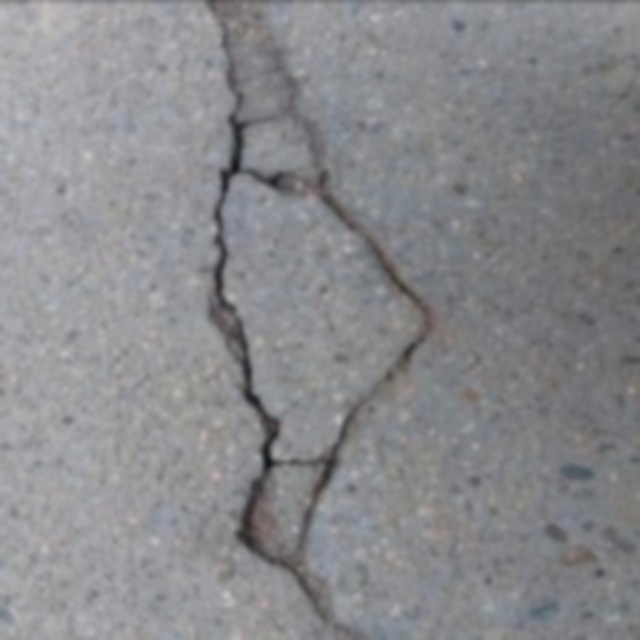SurfaceCrack: (184, 0, 444, 640)
